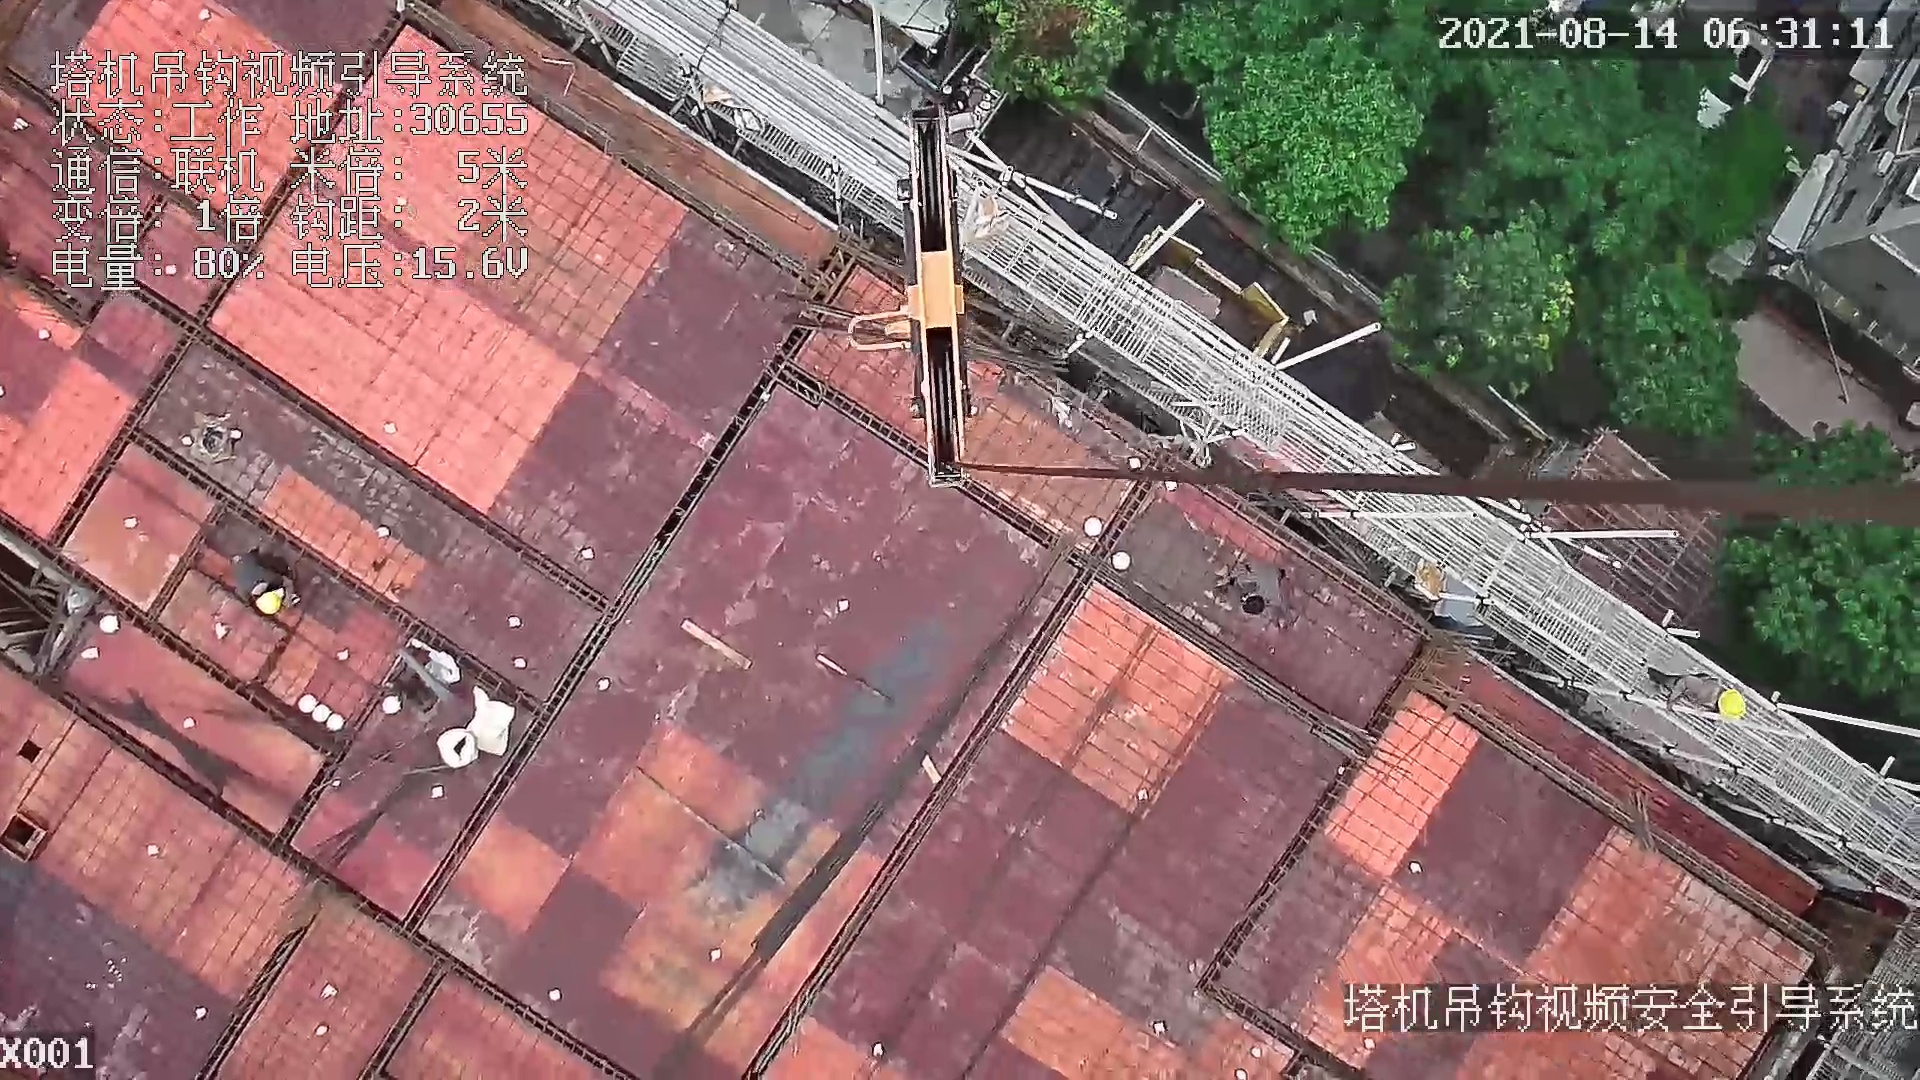helmet: (1718, 689, 1748, 721), (253, 590, 284, 616)
hook: (851, 103, 968, 485)
person: (1641, 656, 1758, 722), (232, 555, 304, 626)
